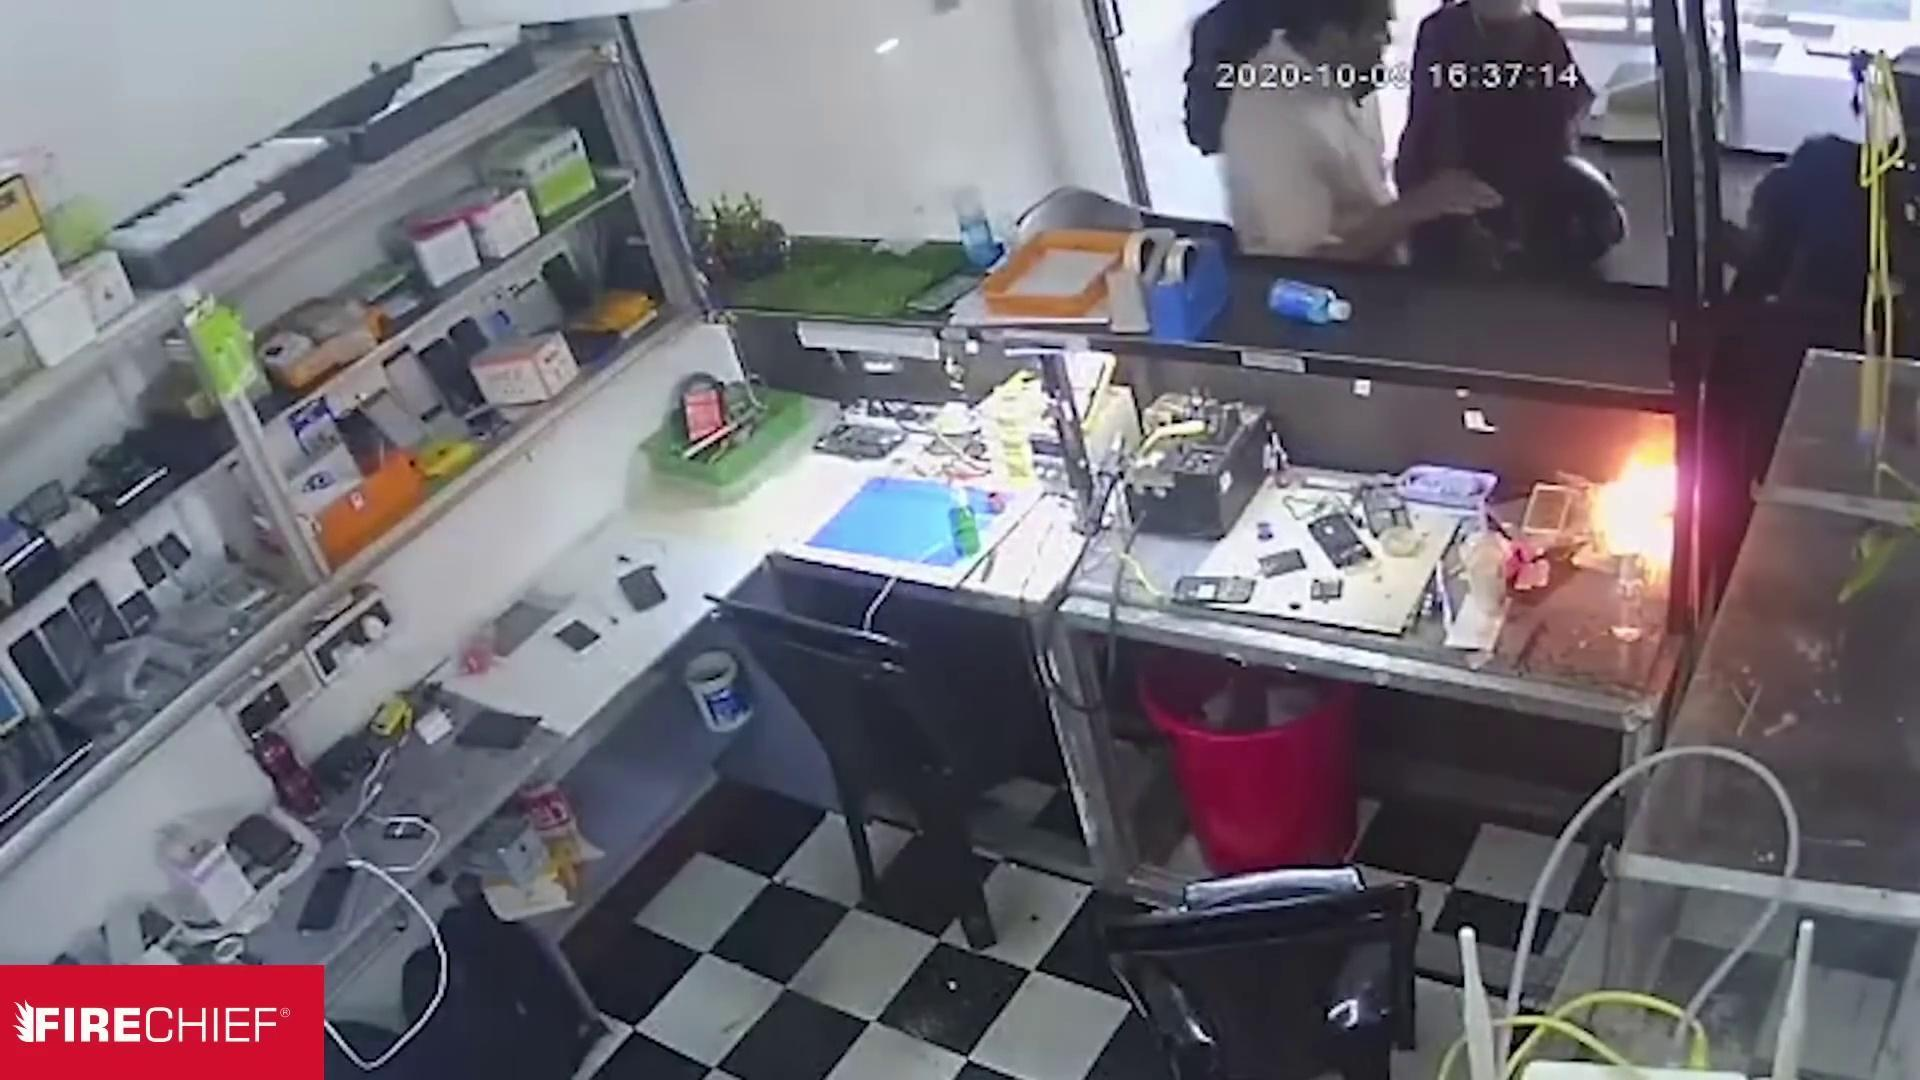fire: (1523, 313, 1770, 626)
